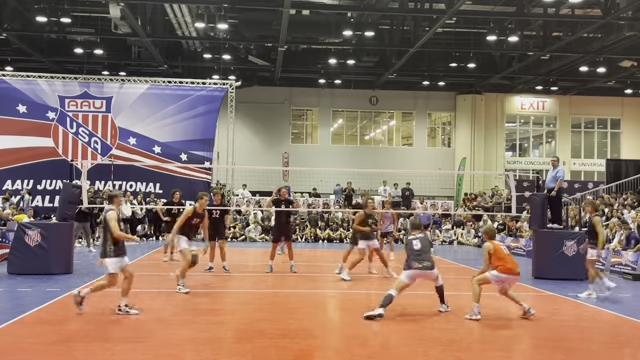Player: (73, 192, 138, 314), (465, 225, 534, 320), (340, 198, 396, 280), (170, 192, 208, 293), (578, 200, 615, 298), (266, 187, 298, 272), (203, 190, 230, 272), (157, 189, 184, 232), (379, 200, 397, 259), (335, 228, 357, 274)
Receive: (365, 213, 454, 323)
